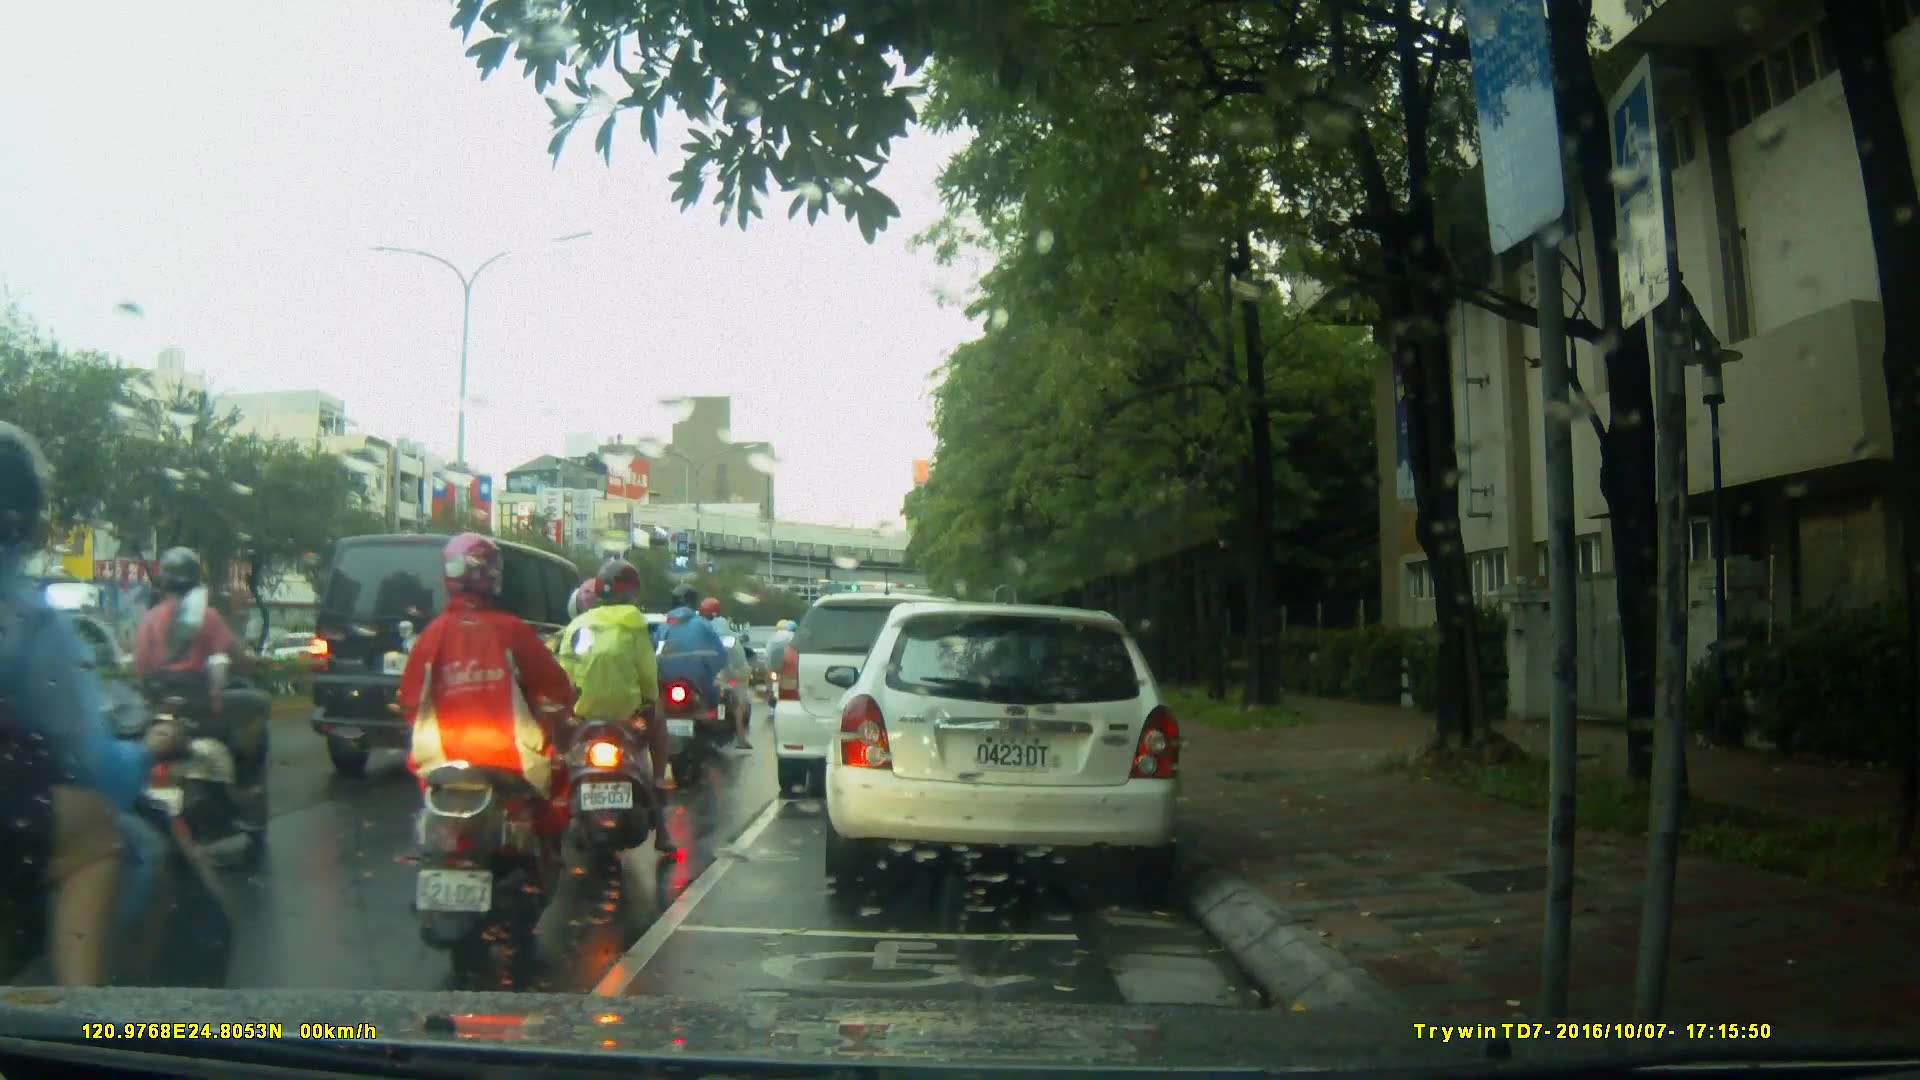rider: (1, 461, 280, 1068), (403, 529, 585, 970), (82, 546, 281, 862), (547, 558, 687, 871), (556, 591, 646, 836), (653, 587, 741, 774), (692, 597, 754, 750), (759, 612, 803, 714)
vehicle: (822, 604, 1188, 883), (299, 531, 631, 786), (774, 595, 995, 802), (562, 612, 752, 741)
